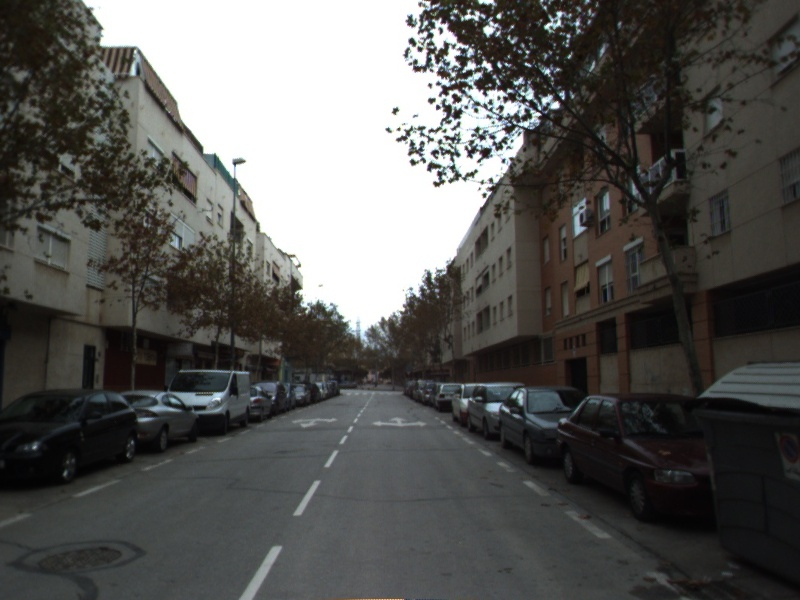STRAIGHT_LEFT_RIGHT: (371, 414, 430, 428)
